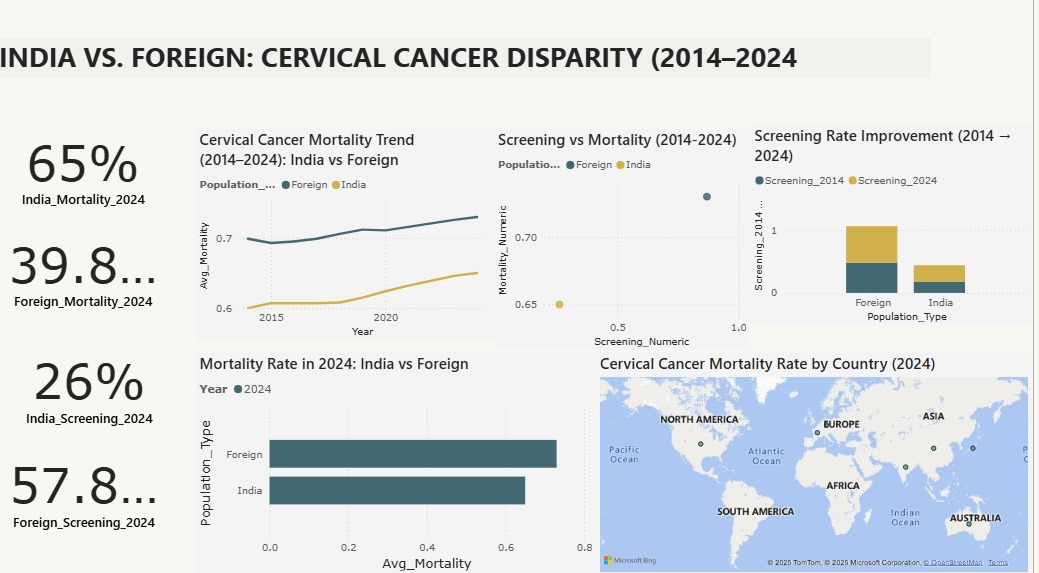

The dashboard page shown, as its layout file describes it:
{"tool":"powerbi","page":{"name":"Page 1","canvas":[1280,720],"ordinal":0},"visuals":[{"type":"card","fields":{"Values":["cervical_cleaned_upedated.India_Mortality_2024"]},"box":[0,161.5,208,107.7],"z":0},{"type":"card","fields":{"Values":["cervical_cleaned_upedated.India_Screening_2024"]},"box":[0,428.9,222.8,113.3],"z":1000},{"type":"card","fields":{"Values":["cervical_cleaned_upedated.Foreign_Screening_2024"]},"box":[0,555.2,209.8,118.8],"z":2000},{"type":"card","fields":{"Values":["cervical_cleaned_upedated.Foreign_Mortality_2024"]},"box":[0,286,208,111.4],"z":3000},{"type":"lineChart","title":"Cervical Cancer Mortality Trend (2014–2024): India vs Foreign","fields":{"Category":["cervical_cleaned_upedated.Year"],"Y":["cervical_cleaned_upedated.Avg_Mortality"],"Series":["cervical_cleaned_upedated.Population_Type"]},"box":[243.6,167,369.3,262],"z":3001},{"type":"barChart","title":"Mortality Rate in 2024: India vs Foreign","fields":{"Category":["cervical_cleaned_upedated.Population_Type"],"Y":["cervical_cleaned_upedated.Avg_Mortality"],"Series":["cervical_cleaned_upedated.Year"]},"box":[243.3,443.8,495.8,274.8],"z":3002},{"type":"scatterChart","title":"Screening vs Mortality (2014-2024)","fields":{"X":["cervical_cleaned_upedated.Screening_Numeric"],"Y":["cervical_cleaned_upedated.Mortality_Numeric"],"Series":["cervical_cleaned_upedated.Population_Type"]},"box":[612.9,167,317.2,274.3],"z":3003},{"type":"map","title":"Cervical Cancer Mortality Rate by Country (2024)","fields":{"Category":["cervical_cleaned_upedated.Country"]},"box":[739,443.8,540.4,276.7],"z":3004},{"type":"columnChart","title":"Screening Rate Improvement (2014 → 2024)","fields":{"Y":["cervical_cleaned_upedated.Screening_2014","cervical_cleaned_upedated.Screening_2024"],"Category":["cervical_cleaned_upedated.Population_Type"]},"box":[930.3,161.5,349.1,248.8],"z":3005},{"type":"shape","title":"INDIA VS. FOREIGN: CERVICAL CANCER DISPARITY (2014–2024","box":[0,53.8,1153.1,50.1],"z":3006}]}

Visuals, with their boxes in screenshot pixels (x1, y1, x2, y2), scaled from the page's 1280x720 canvas onto the 1039x573 screenshot:
card - cervical_cleaned_upedated.India_Mortality_2024: Rect(0, 129, 169, 214)
card - cervical_cleaned_upedated.India_Screening_2024: Rect(0, 341, 181, 432)
card - cervical_cleaned_upedated.Foreign_Screening_2024: Rect(0, 442, 170, 536)
card - cervical_cleaned_upedated.Foreign_Mortality_2024: Rect(0, 228, 169, 316)
"Cervical Cancer Mortality Trend (2014–2024): India vs Foreign" lineChart: Rect(198, 133, 498, 341)
"Mortality Rate in 2024: India vs Foreign" barChart: Rect(197, 353, 600, 572)
"Screening vs Mortality (2014-2024)" scatterChart: Rect(498, 133, 755, 351)
"Cervical Cancer Mortality Rate by Country (2024)" map: Rect(600, 353, 1038, 572)
"Screening Rate Improvement (2014 → 2024)" columnChart: Rect(755, 129, 1038, 327)
"INDIA VS. FOREIGN: CERVICAL CANCER DISPARITY (2014–2024" shape: Rect(0, 43, 936, 83)
